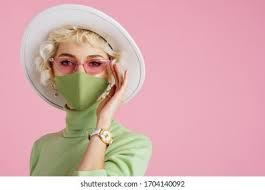cap: (10, 1, 156, 119)
mask: (54, 72, 114, 114)
sunglasses: (50, 53, 112, 76)
